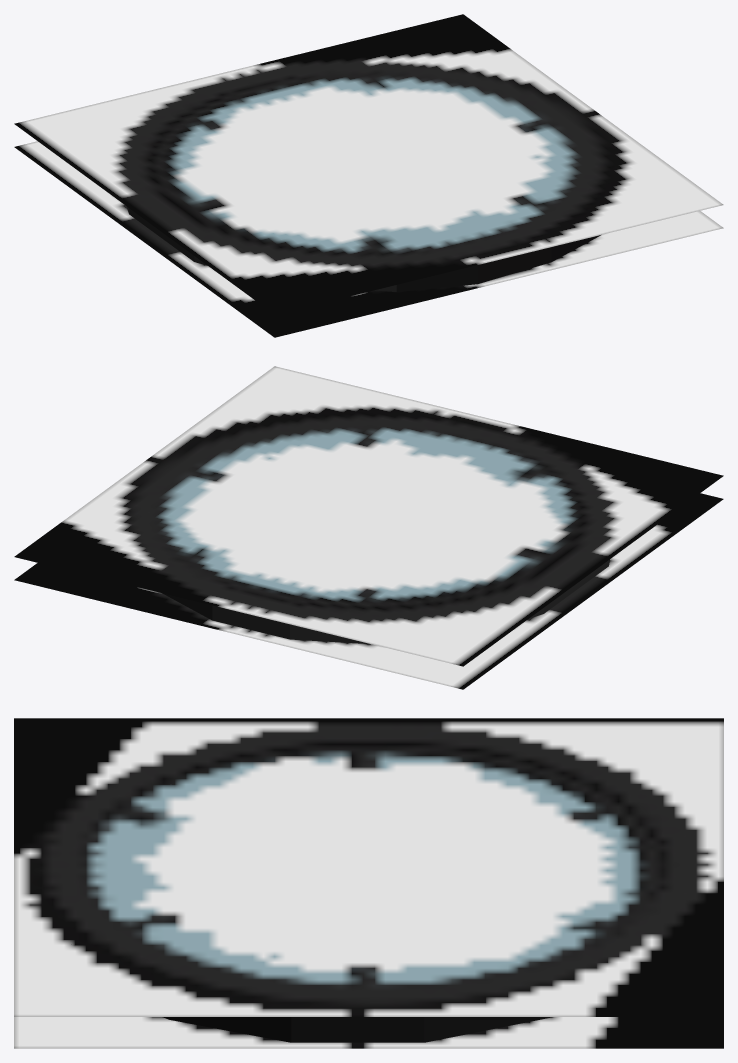
Rendered from pz_native_fixtures_windows_metal_87_frame.obj.
3 renders of one model, top to bottom at view 1: azimuth 30°, elevation 25°; view 2: azimuth 150°, elevation 25°; view 3: azimuth 270°, elevation 25°, orthographic. The views are drawn at different scales.
Parts seen in each view (by area): view 1: pz_native_fixtures_windows_metal_87_frame; view 2: pz_native_fixtures_windows_metal_87_frame; view 3: pz_native_fixtures_windows_metal_87_frame.
Boxes of the visible parts, x1=… form: pz_native_fixtures_windows_metal_87_frame: x1=14, y1=14, x2=723, y2=337; pz_native_fixtures_windows_metal_87_frame: x1=14, y1=366, x2=723, y2=689; pz_native_fixtures_windows_metal_87_frame: x1=14, y1=718, x2=723, y2=1048.
Bounding box in the file's own units: 0.8125 × 0.04 × 0.8165.
Materials: 1 (1 with a texture image).
